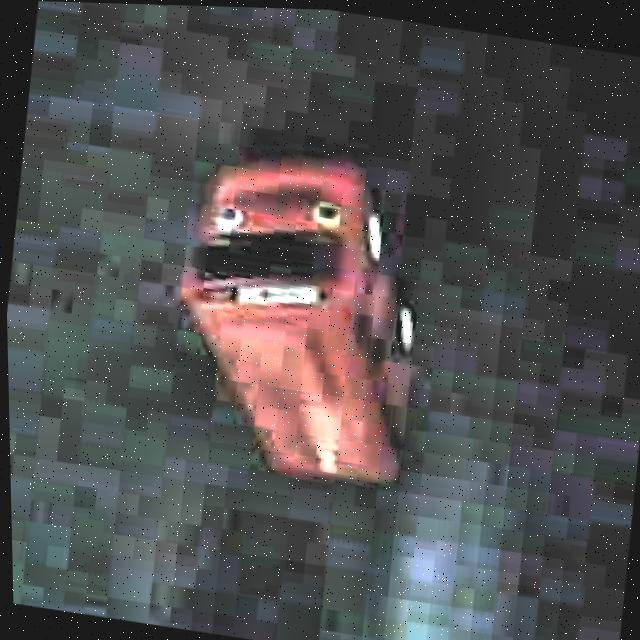bus: (133, 103, 455, 512)
